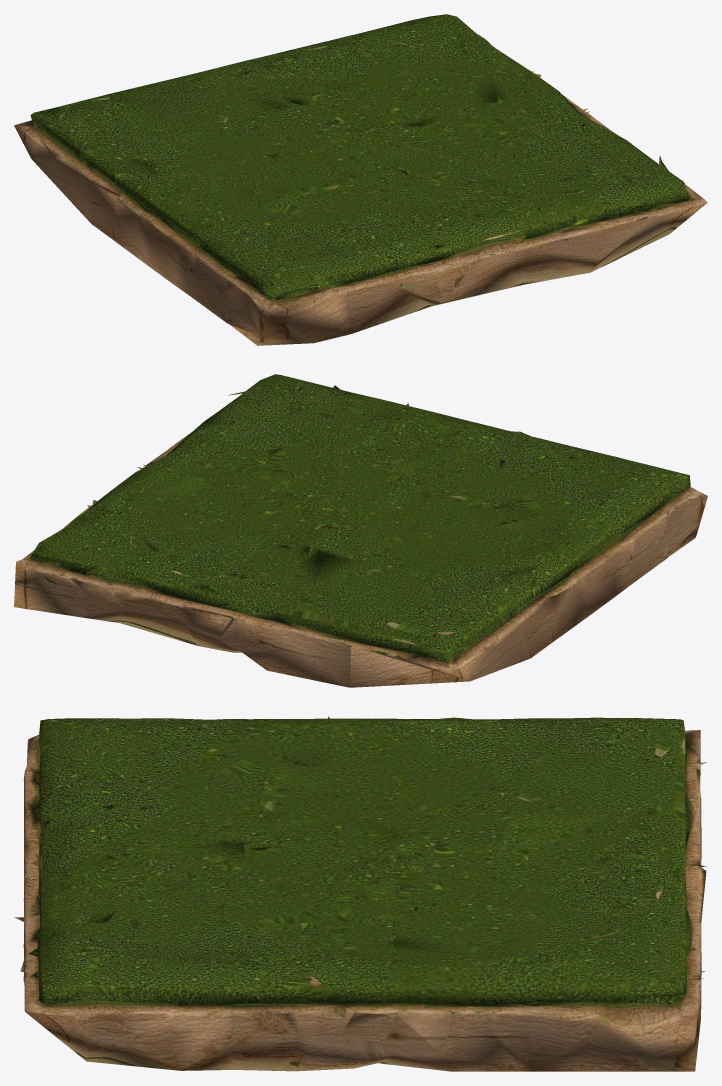
The model's file is pnl_lawn_lod1.glb.
3 views of the same model, one above another, from view 1: azimuth 30°, elevation 25°; view 2: azimuth 150°, elevation 25°; view 3: azimuth 270°, elevation 25° (orthographic). The views are drawn at different scales.
Visible parts, largest first — view 1: tripo_node_a798ef68-236f-4c10-99d6-54520b6235b9; view 2: tripo_node_a798ef68-236f-4c10-99d6-54520b6235b9; view 3: tripo_node_a798ef68-236f-4c10-99d6-54520b6235b9.
Boxes of the visible parts, x1,y1,x2,y2 form: tripo_node_a798ef68-236f-4c10-99d6-54520b6235b9: [14, 14, 707, 345]; tripo_node_a798ef68-236f-4c10-99d6-54520b6235b9: [14, 374, 707, 687]; tripo_node_a798ef68-236f-4c10-99d6-54520b6235b9: [14, 716, 707, 1071].
Bounding box in the file's own units: 1.3 × 0.1927 × 1.3.
1 material, 1 textured.
